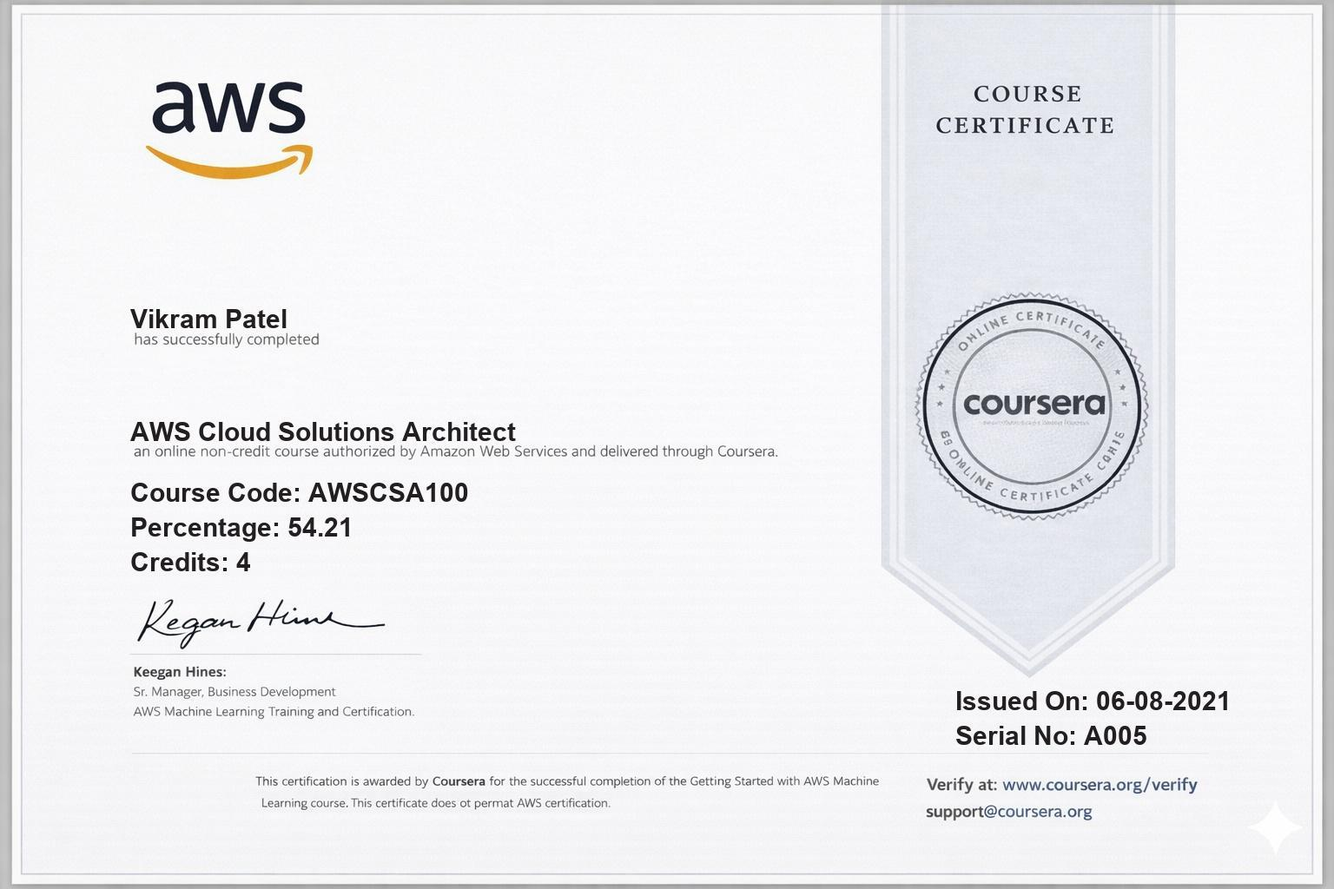Course Code: (305, 468, 472, 512)
Course Name: (122, 409, 524, 448)
Credits: (230, 542, 269, 585)
Issued On: (1090, 679, 1240, 717)
Percentage: (284, 508, 355, 550)
Serial No: (1081, 714, 1156, 760)
Student Name: (120, 294, 298, 336)
